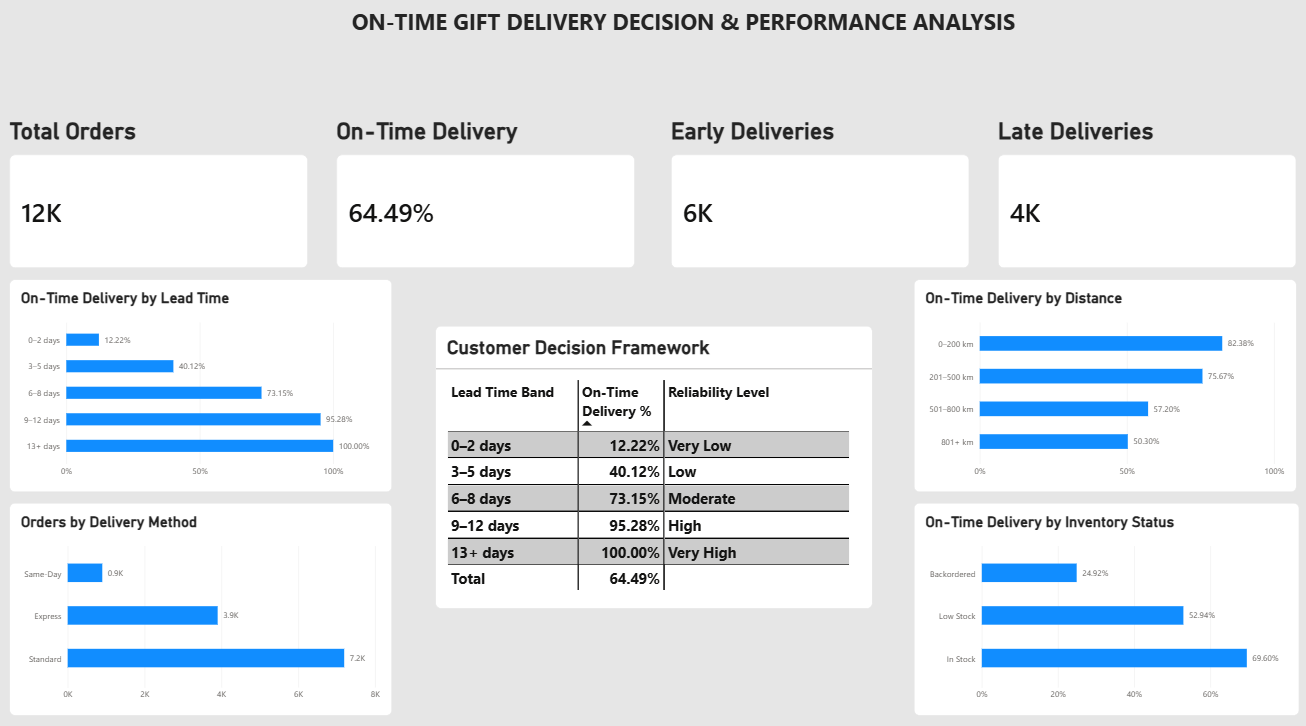

Layout of this report page (visuals, bound fields, positions):
{"tool":"powerbi","page":{"name":"ON-TIME GIFT DELIVERY DECISION & PERFORMANCE ANALYSIS","canvas":[1920,1080],"ordinal":0},"visuals":[{"type":"cardVisual","title":"Total Orders","fields":{"Data":["Count(on_time_gift_delivery_sql.order_id)"]},"box":[23.6,180.5,434,219.2],"z":0},{"type":"cardVisual","title":"On-Time Delivery","fields":{"Data":["on_time_gift_delivery_sql.On-Time Delivery %"]},"box":[500.6,180.5,434,219.2],"z":1000},{"type":"cardVisual","title":"Late Deliveries","fields":{"Data":["on_time_gift_delivery_sql.Late Orders"]},"box":[1463.2,180.5,434,219.2],"z":2000},{"type":"cardVisual","title":"Early Deliveries","fields":{"Data":["on_time_gift_delivery_sql.Early Orders"]},"box":[986.2,180.5,434,219.2],"z":3000},{"type":"clusteredBarChart","title":"On-Time Delivery by Lead Time","fields":{"Category":["on_time_gift_delivery_sql.Lead Time Band"],"Y":["on_time_gift_delivery_sql.On-Time Delivery %"]},"box":[23.6,416.8,556.5,309.4],"z":4000},{"type":"clusteredBarChart","title":"On-Time Delivery by Distance","fields":{"Category":["on_time_gift_delivery_sql.Distance Band"],"Y":["on_time_gift_delivery_sql.On-Time Delivery %"]},"box":[1340.7,416.8,556.5,309.4],"z":5000},{"type":"clusteredBarChart","title":"On-Time Delivery by Inventory Status","fields":{"Category":["on_time_gift_delivery_sql.inventory_status"],"Y":["on_time_gift_delivery_sql.On-Time Delivery %"]},"box":[1340.7,741.3,560.8,309.4],"z":6000},{"type":"clusteredBarChart","title":"Orders by Delivery Method","fields":{"Category":["on_time_gift_delivery_sql.delivery_method"],"Y":["CountNonNull(on_time_gift_delivery_sql.order_id)"]},"box":[23.6,741.3,556.5,309.4],"z":7000},{"type":"textbox","box":[90.2,19.3,1807,68.8],"z":8000},{"type":"tableEx","title":"Customer Decision Framework","fields":{"Values":["on_time_gift_delivery_sql.Lead Time Band","on_time_gift_delivery_sql.On-Time Delivery %","on_time_gift_delivery_sql.Reliability Level"]},"box":[644.1,500,635.4,395.2],"z":9000}]}

Visuals, with their boxes in screenshot pixels (x1, y1, x2, y2), scaled from the page's 1920x1080 canvas onto the 1306x726 screenshot:
"Total Orders" cardVisual: x1=16 y1=121 x2=311 y2=269
"On-Time Delivery" cardVisual: x1=341 y1=121 x2=636 y2=269
"Late Deliveries" cardVisual: x1=995 y1=121 x2=1290 y2=269
"Early Deliveries" cardVisual: x1=671 y1=121 x2=966 y2=269
"On-Time Delivery by Lead Time" clusteredBarChart: x1=16 y1=280 x2=395 y2=488
"On-Time Delivery by Distance" clusteredBarChart: x1=912 y1=280 x2=1290 y2=488
"On-Time Delivery by Inventory Status" clusteredBarChart: x1=912 y1=498 x2=1293 y2=706
"Orders by Delivery Method" clusteredBarChart: x1=16 y1=498 x2=395 y2=706
textbox: x1=61 y1=13 x2=1290 y2=59
"Customer Decision Framework" tableEx: x1=438 y1=336 x2=870 y2=602
